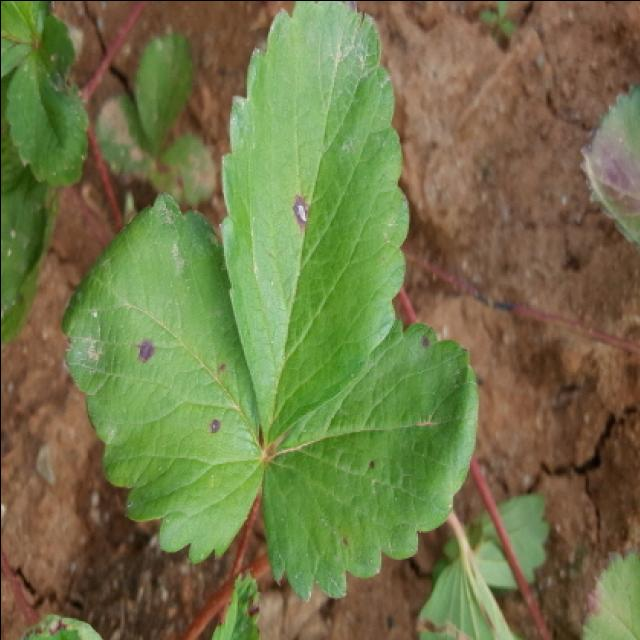Leaf Spot: (217, 2, 409, 451), (58, 191, 265, 565), (262, 318, 479, 605), (148, 129, 217, 208)
